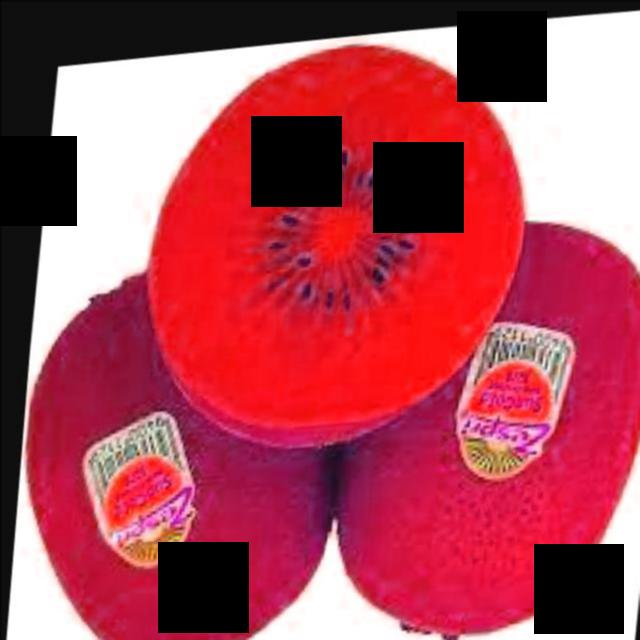kiwi: (322, 207, 640, 640), (2, 262, 348, 640)
